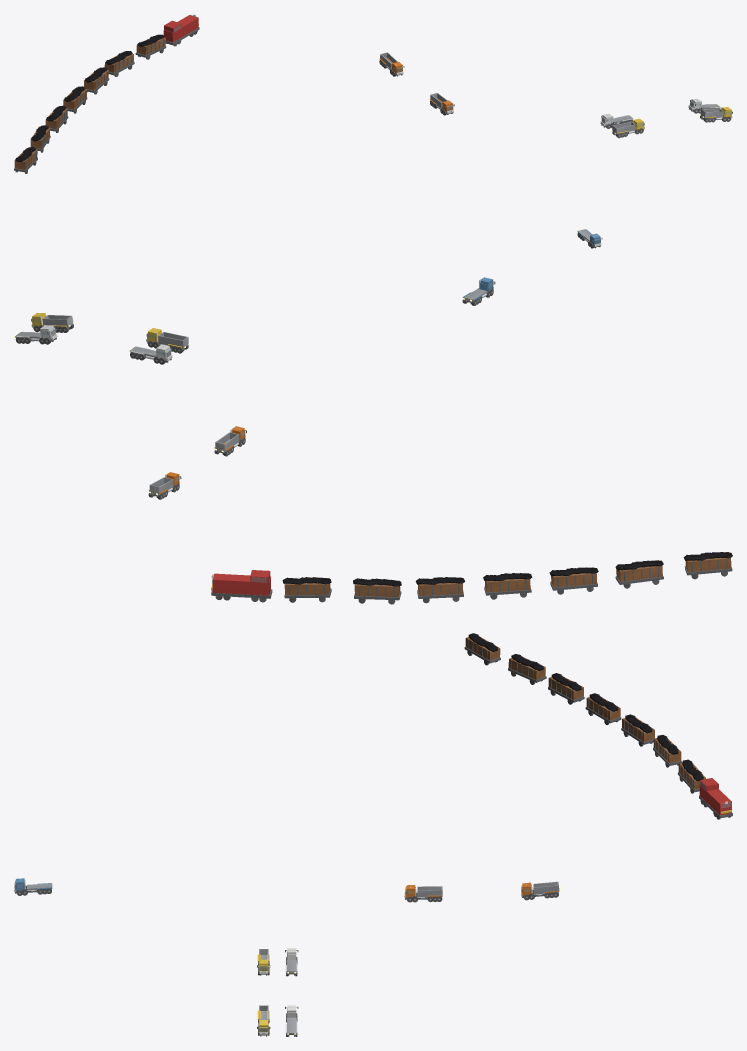
The model's file is Vehicles_P3.fbx.
3 views of the same model, one above another, from view 1: azimuth 30°, elevation 25°; view 2: azimuth 150°, elevation 25°; view 3: azimuth 270°, elevation 25° (orthographic). The views are drawn at different scales.
Visible parts, largest first — view 1: train, wagon, wagon.001, wagon.002, wagon.006, truck_road_ore2, wagon.003, truck_road_ore3, wagon.004, wagon.005; view 2: train, wagon.001, wagon.005, wagon.006, wagon.004, wagon, wagon.003, wagon.002, truck_road_ore2, truck_road_ore3, truck_road_ore1, truck_road_cargo1 (+2 smaller); view 3: train, wagon.005, wagon.004, wagon.006, wagon.003, wagon.002.
Boxes of the visible parts, x1,y1,x2,y2 form: train: [163, 14, 199, 46]; wagon: [135, 34, 166, 59]; wagon.001: [104, 51, 134, 76]; wagon.002: [84, 67, 109, 94]; wagon.006: [14, 147, 37, 173]; truck_road_ore2: [611, 118, 644, 138]; wagon.003: [63, 86, 87, 113]; truck_road_ore3: [699, 107, 732, 122]; wagon.004: [45, 105, 68, 132]; wagon.005: [30, 125, 50, 152]; train: [211, 570, 272, 602]; wagon.001: [353, 578, 401, 604]; wagon.005: [615, 560, 663, 588]; wagon.006: [683, 552, 732, 579]; wagon.004: [549, 567, 598, 594]; wagon: [282, 577, 331, 602]; wagon.003: [483, 573, 532, 599]; wagon.002: [415, 577, 464, 603]; truck_road_ore2: [146, 328, 189, 353]; truck_road_ore3: [31, 312, 74, 332]; truck_road_ore1: [214, 426, 246, 456]; truck_road_cargo1: [128, 344, 172, 364]; train: [699, 778, 732, 819]; wagon.005: [508, 654, 546, 684]; wagon.004: [548, 673, 584, 704]; wagon.006: [464, 633, 500, 665]; wagon.003: [585, 693, 621, 724]; wagon.002: [621, 714, 654, 746].
Bounding box in the file's own units: 21540 × 1522 × 18500.
